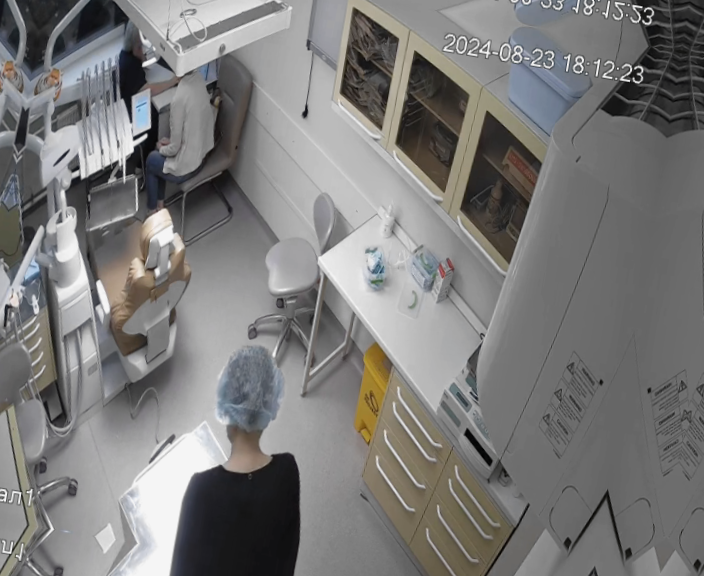Empty: (71, 195, 207, 389)
